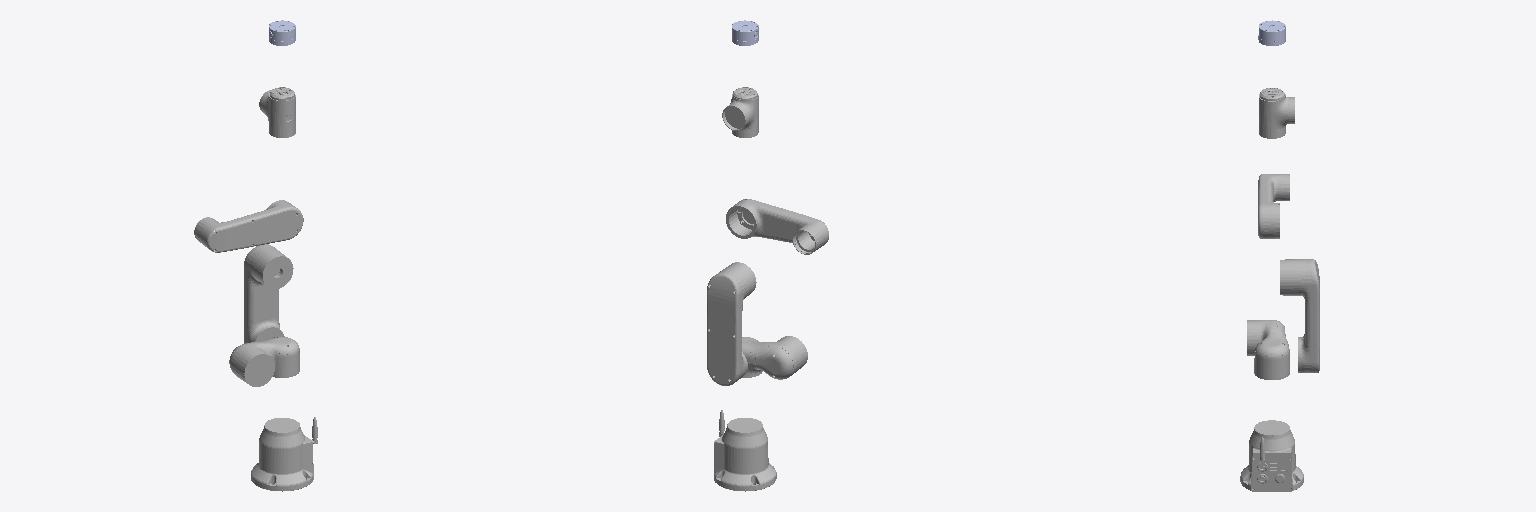
robot.urdf — RM65-6F:
<?xml version="1.0" encoding="utf-8"?>
<!-- This URDF was automatically created by SolidWorks to URDF Exporter! Originally created by [author] ([email redacted]) 
     Commit Version: 1.6.0-1-g15f4949  Build Version: 1.6.7594.29634
     For more information, please see http://wiki.ros.org/sw_urdf_exporter -->
<robot
  name="RM65-6F">
  <link
    name="base_link">
    <inertial>
      <origin
        xyz="-0.00049840293879996 -5.19350047653785E-05 0.0600202841321701"
        rpy="0 0 0" />
      <mass
        value="0.838885281114303" />
      <inertia
        ixx="0.00172321229549441"
        ixy="3.09076898315635E-06"
        ixz="-3.7922126488402E-05"
        iyy="0.00170514762495823"
        iyz="1.38793642017112E-06"
        izz="0.000901589030906685" />
    </inertial>
    <visual>
      <origin
        xyz="0 0 0"
        rpy="0 0 0" />
      <geometry>
        <mesh
          filename="package://rm_description/meshes/rm_65_6fb_arm/base_link.STL" />
      </geometry>
      <material
        name="">
        <color
          rgba="0.752941176470588 0.752941176470588 0.752941176470588 1" />
      </material>
    </visual>
    <collision>
      <origin
        xyz="0 0 0"
        rpy="0 0 0" />
      <geometry>
        <mesh
          filename="package://rm_description/meshes/rm_65_6fb_arm//base_link.STL" />
      </geometry>
    </collision>
  </link>
  <link
    name="Link1">
    <inertial>
      <origin
        xyz="-2.05546069214312E-07 0.0211077047188954 -0.0251861970792274"
        rpy="0 0 0" />
      <mass
        value="0.593542243994357" />
      <inertia
        ixx="0.00126611498055767"
        ixy="-5.09885204907085E-09"
        ixz="-6.36116302372232E-09"
        iyy="0.00118165919048932"
        iyz="-0.000211204511668188"
        izz="0.000561320297380402" />
    </inertial>
    <visual>
      <origin
        xyz="0 0 0"
        rpy="0 0 0" />
      <geometry>
        <mesh
          filename="package://rm_description/meshes/rm_65_6fb_arm//Link1.STL" />
      </geometry>
      <material
        name="">
        <color
          rgba="0.752941176470588 0.752941176470588 0.752941176470588 1" />
      </material>
    </visual>
    <collision>
      <origin
        xyz="0 0 0"
        rpy="0 0 0" />
      <geometry>
        <mesh
          filename="package://rm_description/meshes/rm_65_6fb_arm//Link1.STL" />
      </geometry>
    </collision>
  </link>
  <joint
    name="joint1"
    type="revolute">
    <origin
      xyz="0 0 0.2405"
      rpy="0 0 0" />
    <parent
      link="base_link" />
    <child
      link="Link1" />
    <axis
      xyz="0 0 -1" />
    <limit
      lower="-3.105"
      upper="3.105"
      effort="60"
      velocity="3.14" />
  </joint>
  <link
    name="Link2">
    <inertial>
      <origin
        xyz="0.152256777078729 5.03020745195745E-07 -0.00620261689688585"
        rpy="0 0 0" />
      <mass
        value="0.86417584142394" />
      <inertia
        ixx="0.000632536249619478"
        ixy="-1.50829601286586E-08"
        ixz="0.000421628477937965"
        iyy="0.00205272279459906"
        iyz="3.72279302448935E-09"
        izz="0.00195281592383166" />
    </inertial>
    <visual>
      <origin
        xyz="0 0 0"
        rpy="0 0 0" />
      <geometry>
        <mesh
          filename="package://rm_description/meshes/rm_65_6fb_arm//Link2.STL" />
      </geometry>
      <material
        name="">
        <color
          rgba="0.752941176470588 0.752941176470588 0.752941176470588 1" />
      </material>
    </visual>
    <collision>
      <origin
        xyz="0 0 0"
        rpy="0 0 0" />
      <geometry>
        <mesh
          filename="package://rm_description/meshes/rm_65_6fb_arm//Link2.STL" />
      </geometry>
    </collision>
  </link>
  <joint
    name="joint2"
    type="revolute">
    <origin
      xyz="0 0 0"
      rpy="1.5708 -1.5708 0" />
    <parent
      link="Link1" />
    <child
      link="Link2" />
    <axis
      xyz="0 0 1" />
    <limit
      lower="-2.269"
      upper="2.269"
      effort="60"
      velocity="3.14" />
  </joint>
  <link
    name="Link3">
    <inertial>
      <origin
        xyz="4.51889143251529E-06 -0.0595928812560097 0.0105690421381407"
        rpy="0 0 0" />
      <mass
        value="0.289643824525119" />
      <inertia
        ixx="0.000637363594961081"
        ixy="-5.74855022778973E-08"
        ixz="-3.30883733392731E-08"
        iyy="0.000156488205208169"
        iyz="-0.000144608155860483"
        izz="0.000614175003514739" />
    </inertial>
    <visual>
      <origin
        xyz="0 0 0"
        rpy="0 0 0" />
      <geometry>
        <mesh
          filename="package://rm_description/meshes/rm_65_6fb_arm//Link3.STL" />
      </geometry>
      <material
        name="">
        <color
          rgba="0.752941176470588 0.752941176470588 0.752941176470588 1" />
      </material>
    </visual>
    <collision>
      <origin
        xyz="0 0 0"
        rpy="0 0 0" />
      <geometry>
        <mesh
          filename="package://rm_description/meshes/rm_65_6fb_arm//Link3.STL" />
      </geometry>
    </collision>
  </link>
  <joint
    name="joint3"
    type="revolute">
    <origin
      xyz="0.256 0 0"
      rpy="0 0 1.5708" />
    <parent
      link="Link2" />
    <child
      link="Link3" />
    <axis
      xyz="0 0 1" />
    <limit
      lower="-2.356"
      upper="2.356"
      effort="30"
      velocity="3.14" />
  </joint>
  <link
    name="Link4">
    <inertial>
      <origin
        xyz="1.32071622473062E-06 -0.0180437560522369 -0.0215381587841798"
        rpy="0 0 0" />
      <mass
        value="0.239430992940448" />
      <inertia
        ixx="0.00028594979957681"
        ixy="-2.14337423072154E-09"
        ixz="1.40294693820984E-09"
        iyy="0.000262735545580892"
        iyz="4.4240809689715E-05"
        izz="0.000119899058385996" />
    </inertial>
    <visual>
      <origin
        xyz="0 0 0"
        rpy="0 0 0" />
      <geometry>
        <mesh
          filename="package://rm_description/meshes/rm_65_6fb_arm//Link4.STL" />
      </geometry>
      <material
        name="">
        <color
          rgba="0.752941176470588 0.752941176470588 0.752941176470588 1" />
      </material>
    </visual>
    <collision>
      <origin
        xyz="0 0 0"
        rpy="0 0 0" />
      <geometry>
        <mesh
          filename="package://rm_description/meshes/rm_65_6fb_arm//Link4.STL" />
      </geometry>
    </collision>
  </link>
  <joint
    name="joint4"
    type="revolute">
    <origin
      xyz="0 -0.21 0"
      rpy="1.5708 0 0" />
    <parent
      link="Link3" />
    <child
      link="Link4" />
    <axis
      xyz="0 0 -1" />
    <limit
      lower="-3.106"
      upper="3.106"
      effort="10"
      velocity="3.14" />
  </joint>
  <link
    name="Link5">
    <inertial>
      <origin
        xyz="4.23948957018841E-06 -0.0593817487603215 0.00736779587750847"
        rpy="0 0 0" />
      <mass
        value="0.21879527056675" />
      <inertia
        ixx="0.00035053124249399"
        ixy="-3.11297051636039E-08"
        ixz="-1.70875238293736E-08"
        iyy="0.00010492541026997"
        iyz="-7.82406705228082E-05"
        izz="0.000334471302428861" />
    </inertial>
    <visual>
      <origin
        xyz="0 0 0"
        rpy="0 0 0" />
      <geometry>
        <mesh
          filename="package://rm_description/meshes/rm_65_6fb_arm//Link5.STL" />
      </geometry>
      <material
        name="">
        <color
          rgba="0.752941176470588 0.752941176470588 0.752941176470588 1" />
      </material>
    </visual>
    <collision>
      <origin
        xyz="0 0 0"
        rpy="0 0 0" />
      <geometry>
        <mesh
          filename="package://rm_description/meshes/rm_65_6fb_arm//Link5.STL" />
      </geometry>
    </collision>
  </link>
  <joint
    name="joint5"
    type="revolute">
    <origin
      xyz="0 0 0"
      rpy="-1.5708 0 0" />
    <parent
      link="Link4" />
    <child
      link="Link5" />
    <axis
      xyz="0 0 1" />
    <limit
      lower="-2.234"
      upper="2.234"
      effort="10"
      velocity="3.14" />
  </joint>
  <link
    name="Link6">
    <inertial>
      <origin
        xyz="0.000138559985614397 -0.00574537418929974 -0.535986173384404"
        rpy="0 0 0" />
      <mass
        value="3.04449097371379" />
      <inertia
        ixx="0.170810328289537"
        ixy="5.3822775672348E-07"
        ixz="0.000151207460728544"
        iyy="0.169967421523245"
        iyz="0.00105777172655597"
        izz="0.00305546066386606" />
    </inertial>
    <visual>
      <origin
        xyz="0 0 0"
        rpy="0 0 0" />
      <geometry>
        <mesh
          filename="package://rm_description/meshes/rm_65_6fb_arm//Link6.STL" />
      </geometry>
      <material
        name="">
        <color
          rgba="0.792156862745098 0.819607843137255 0.933333333333333 1" />
      </material>
    </visual>
    <collision>
      <origin
        xyz="0 0 0"
        rpy="0 0 0" />
      <geometry>
        <mesh
          filename="package://rm_description/meshes/rm_65_6fb_arm//Link6.STL" />
      </geometry>
    </collision>
  </link>
  <joint
    name="joint6"
    type="revolute">
    <origin
      xyz="0 -0.1613 0"
      rpy="1.5708 0 0" />
    <parent
      link="Link5" />
    <child
      link="Link6" />
    <axis
      xyz="0 0 1" />
    <limit
      lower="-6.28"
      upper="6.28"
      effort="10"
      velocity="3.14" />
  </joint>
</robot>

--- What the picture shows (computed from the rendered views, not written in the file) ---
Views: 3 orthographic renders of the robot side by side, from view 1: azimuth 30°, elevation 25°; view 2: azimuth 150°, elevation 25°; view 3: azimuth 270°, elevation 25°.
Model RM65-6F with 7 links and 6 joints (6 revolute), rooted at base_link, posed every joint at zero.
Visible links, largest first — view 1: base_link, Link2, Link3, Link1, Link5, Link6; view 2: Link2, base_link, Link3, Link1, Link5, Link6; view 3: base_link, Link2, Link1, Link3, Link5, Link6.
Boxes of the visible links, x1,y1,x2,y2 form: base_link: (251,417,317,491); Link2: (244,244,293,343); Link3: (194,200,303,252); Link1: (229,337,299,386); Link5: (262,87,295,137); Link6: (269,20,295,45); Link2: (707,262,756,385); base_link: (714,410,776,491); Link3: (726,199,828,254); Link1: (742,336,807,379); Link5: (725,87,758,137); Link6: (732,20,758,45); base_link: (1240,420,1303,491); Link2: (1280,259,1319,372); Link1: (1247,320,1289,379); Link3: (1258,174,1289,238); Link5: (1259,88,1289,138); Link6: (1258,20,1285,45).
Size in the robot's own frame: 0.2214 by 0.1371 by 0.8678 metres.
7 mesh visuals loaded from 7 distinct referenced files (7 binary STL).